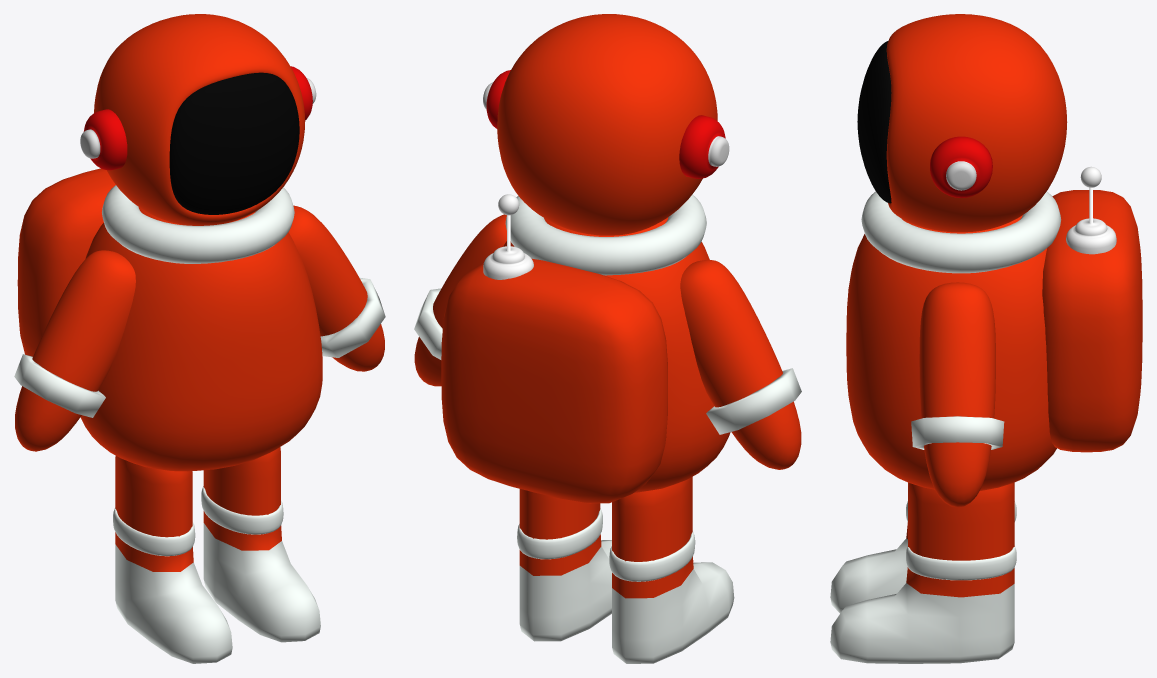
Rendered from SpaceBud.fbx.
3 renders of one model, left to right at view 1: azimuth 30°, elevation 25°; view 2: azimuth 150°, elevation 25°; view 3: azimuth 270°, elevation 25°, orthographic. The views are drawn at different scales.
Visible parts, largest first — view 1: Cube.005; view 2: Cube.005; view 3: Cube.005.
Part boxes in pixels (bbox=[...]): Cube.005: bbox=[14, 14, 385, 663]; Cube.005: bbox=[414, 14, 801, 663]; Cube.005: bbox=[830, 14, 1142, 663].
Size of the model in its own units: 113 by 174 by 81.51.
